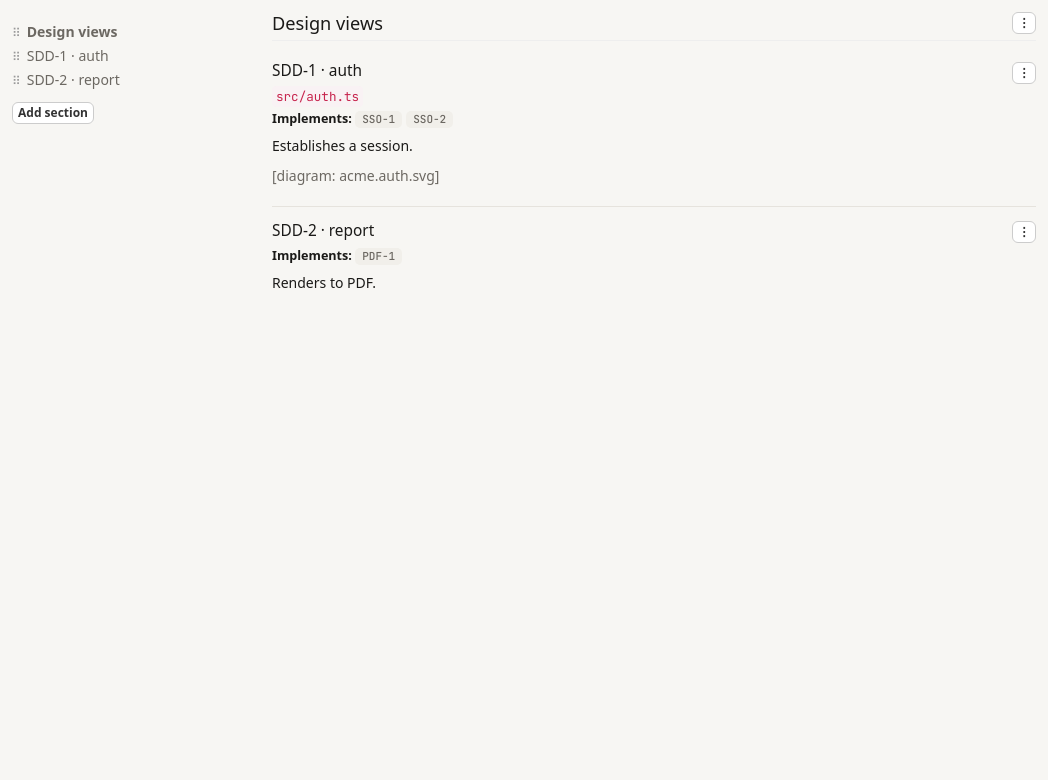
it: DetailedDesignView — editing in place › opens the clicked section for editing and leaves its neighbours rendered
Click the text "Establishes a session.". click: (342, 145)
box: [272, 136, 413, 154]
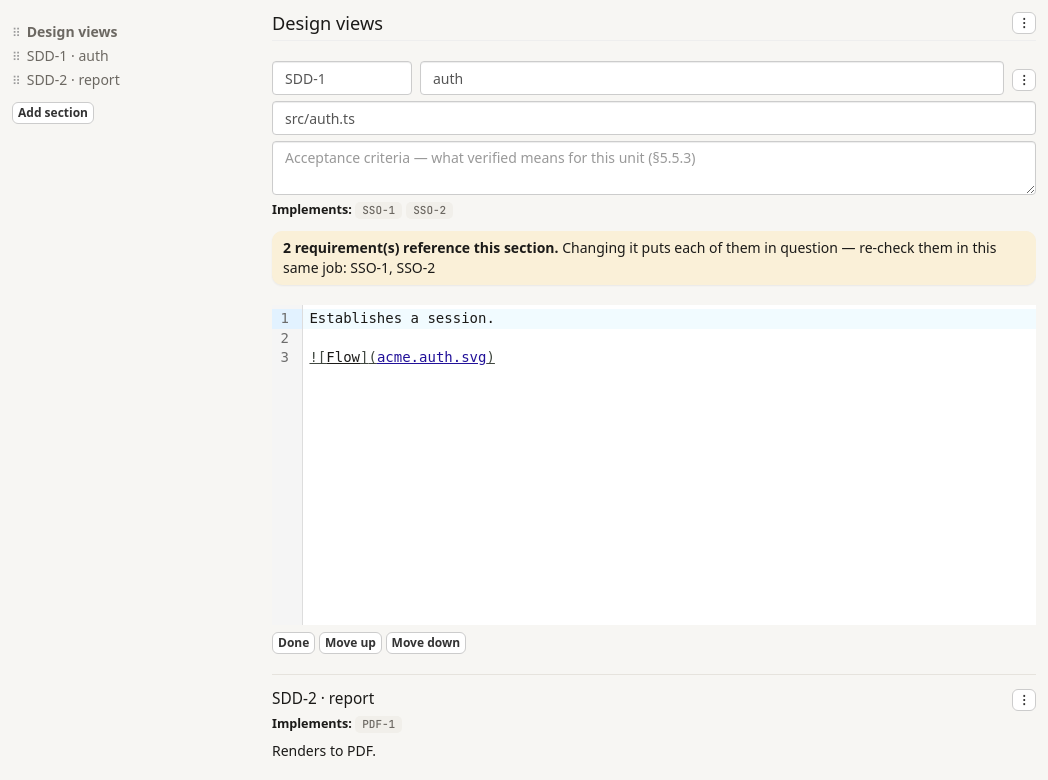
Expected: the text "Renders to PDF." is shown, [272, 741, 376, 760]
Expected: the field named "Section title" is shown, [420, 61, 1004, 95]
